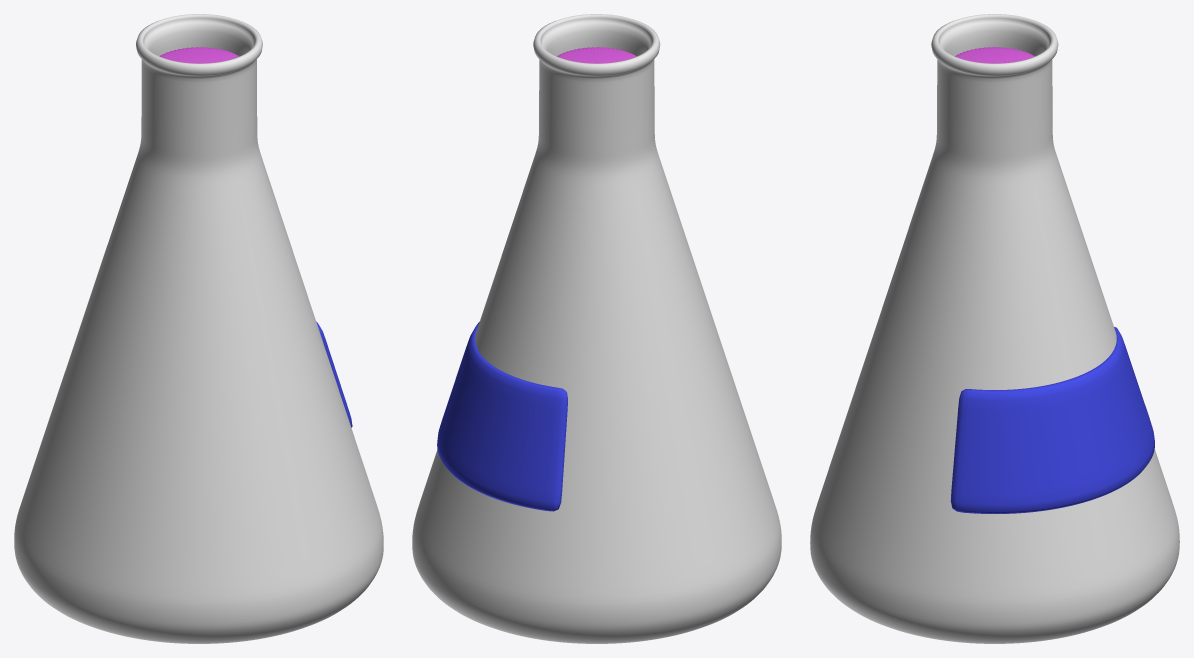
The model's file is correct_erlenmeyer-with-substance.fbx.
The picture shows the model from 3 angles, left to right: view 1: azimuth 30°, elevation 25°; view 2: azimuth 150°, elevation 25°; view 3: azimuth 270°, elevation 25°; orthographic projection.
Parts seen in each view (by area): view 1: Erlenmeyer, Erlenmeyer.002; view 2: Erlenmeyer, Erlenmeyer.003, Erlenmeyer.002; view 3: Erlenmeyer, Erlenmeyer.003, Erlenmeyer.002.
Part boxes in pixels (x1=…): Erlenmeyer: x1=14, y1=14, x2=383, y2=643; Erlenmeyer.002: x1=159, y1=47, x2=238, y2=63; Erlenmeyer: x1=412, y1=14, x2=781, y2=643; Erlenmeyer.003: x1=437, y1=321, x2=567, y2=511; Erlenmeyer.002: x1=557, y1=47, x2=636, y2=63; Erlenmeyer: x1=810, y1=14, x2=1179, y2=643; Erlenmeyer.003: x1=950, y1=327, x2=1154, y2=513; Erlenmeyer.002: x1=955, y1=47, x2=1034, y2=63.
Size of the model in its own units: 198 by 320 by 198.
